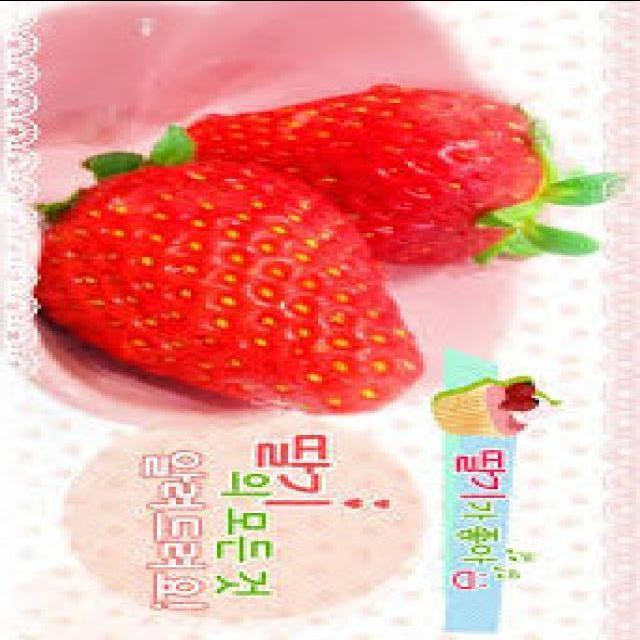ripe: (34, 156, 428, 412), (184, 83, 546, 264)
